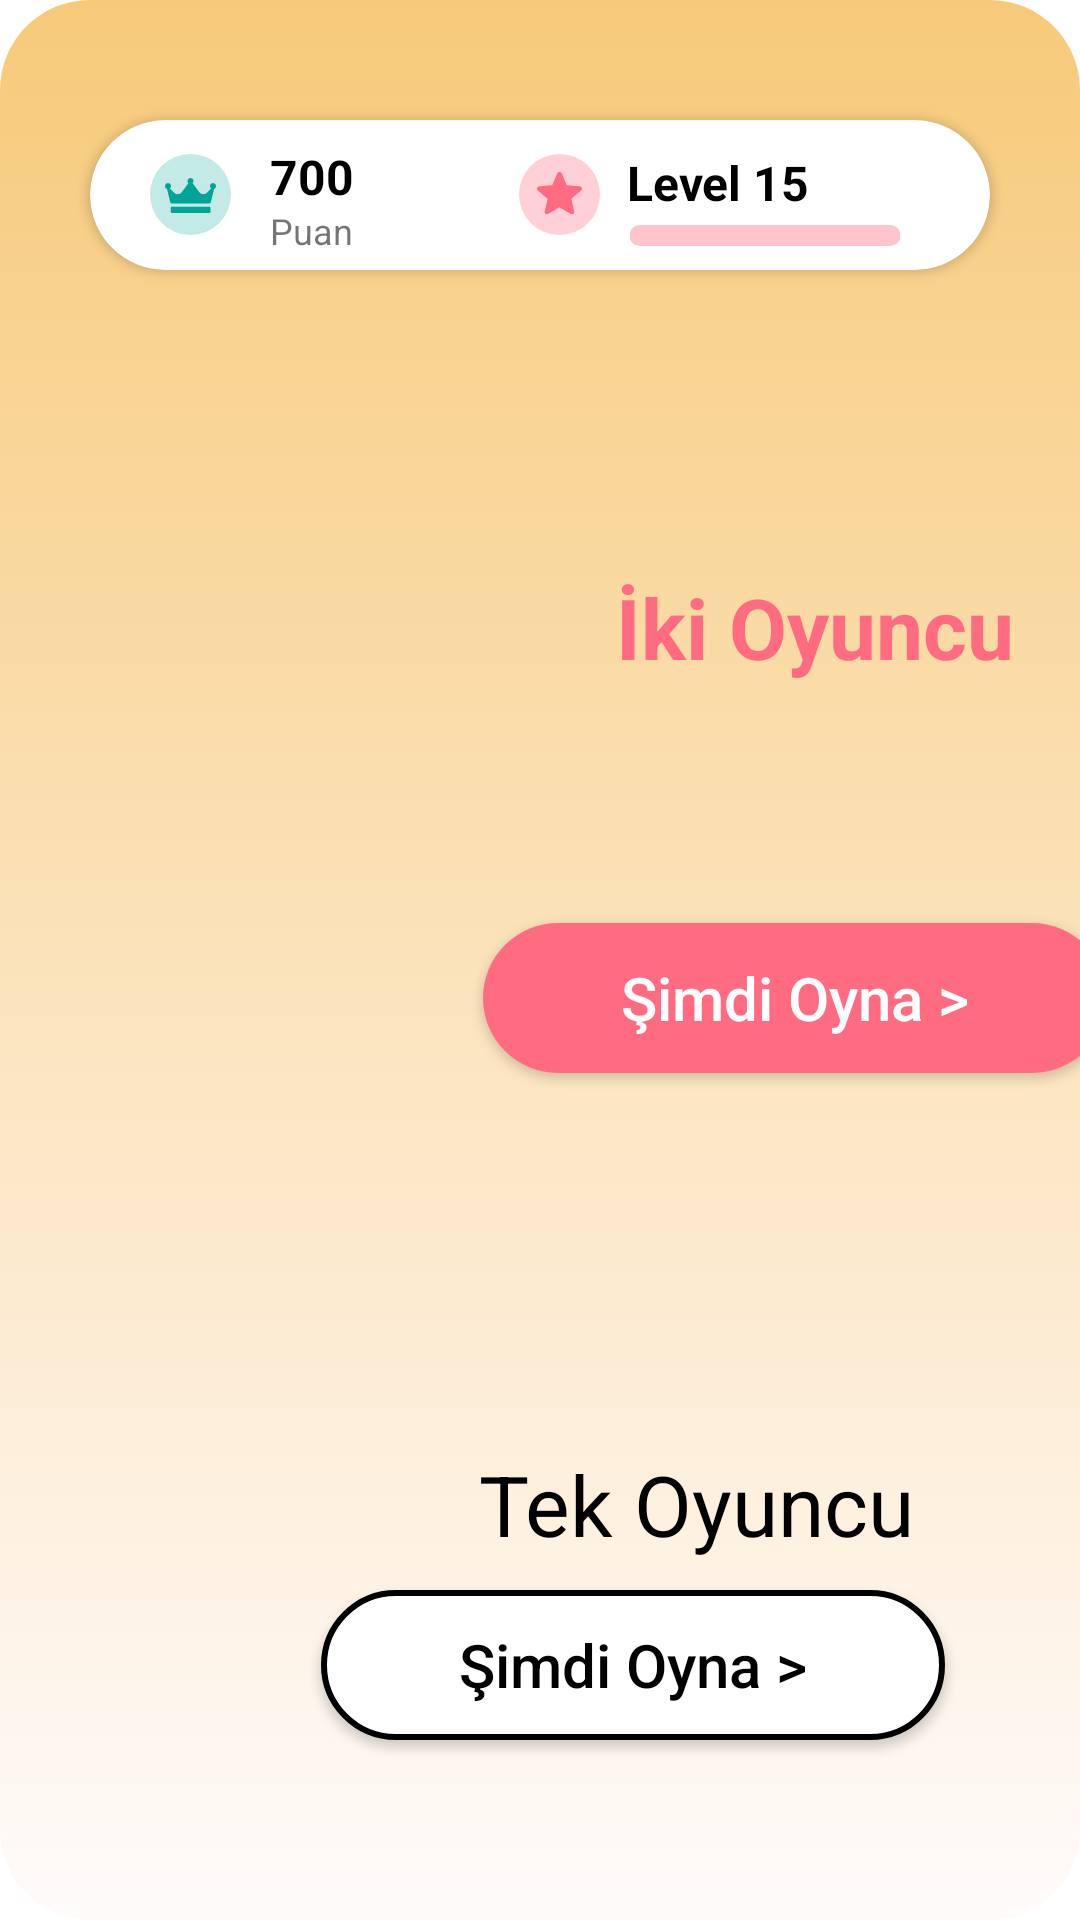

Icons on this 1080px×1920px Android screen, each with its box as BBox(x1, y1, x2, y2):
battle level: BBox(519, 154, 600, 235)
battle point: BBox(150, 154, 231, 235)
